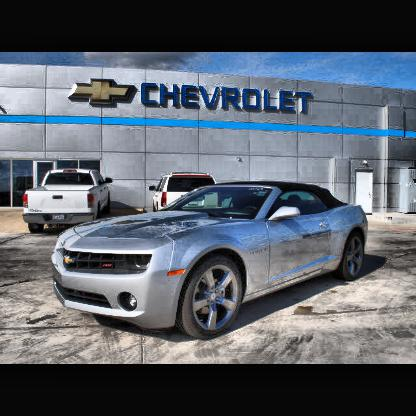Chevrolet Camaro Convertible 2012: (48, 180, 371, 345)
